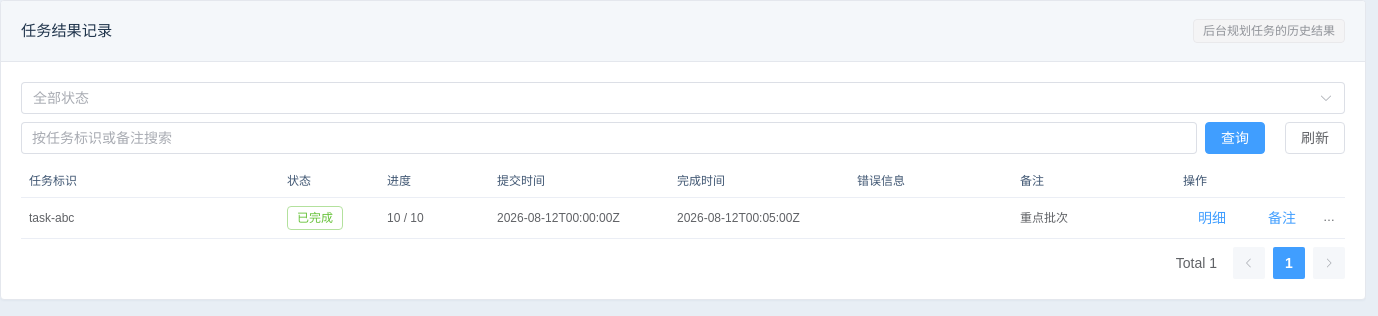
Scenario: TaskResultRecordsPanel › saves the edited remark and refreshes the row
The image size is (1378, 316).
Click the button with test id "edit-task-result-remark".
click(1282, 218)  # box [1253,202,1311,234]
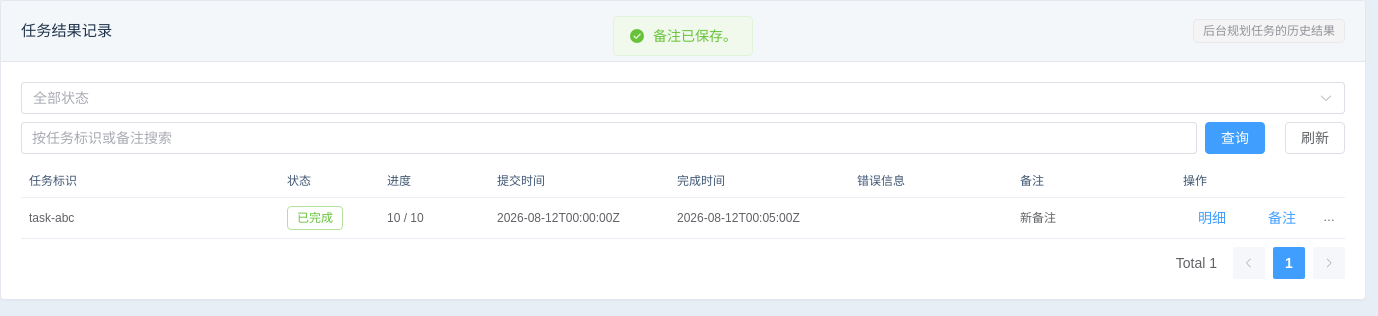
Expected: the text "新备注" is shown, [1020,210,1056,224]
